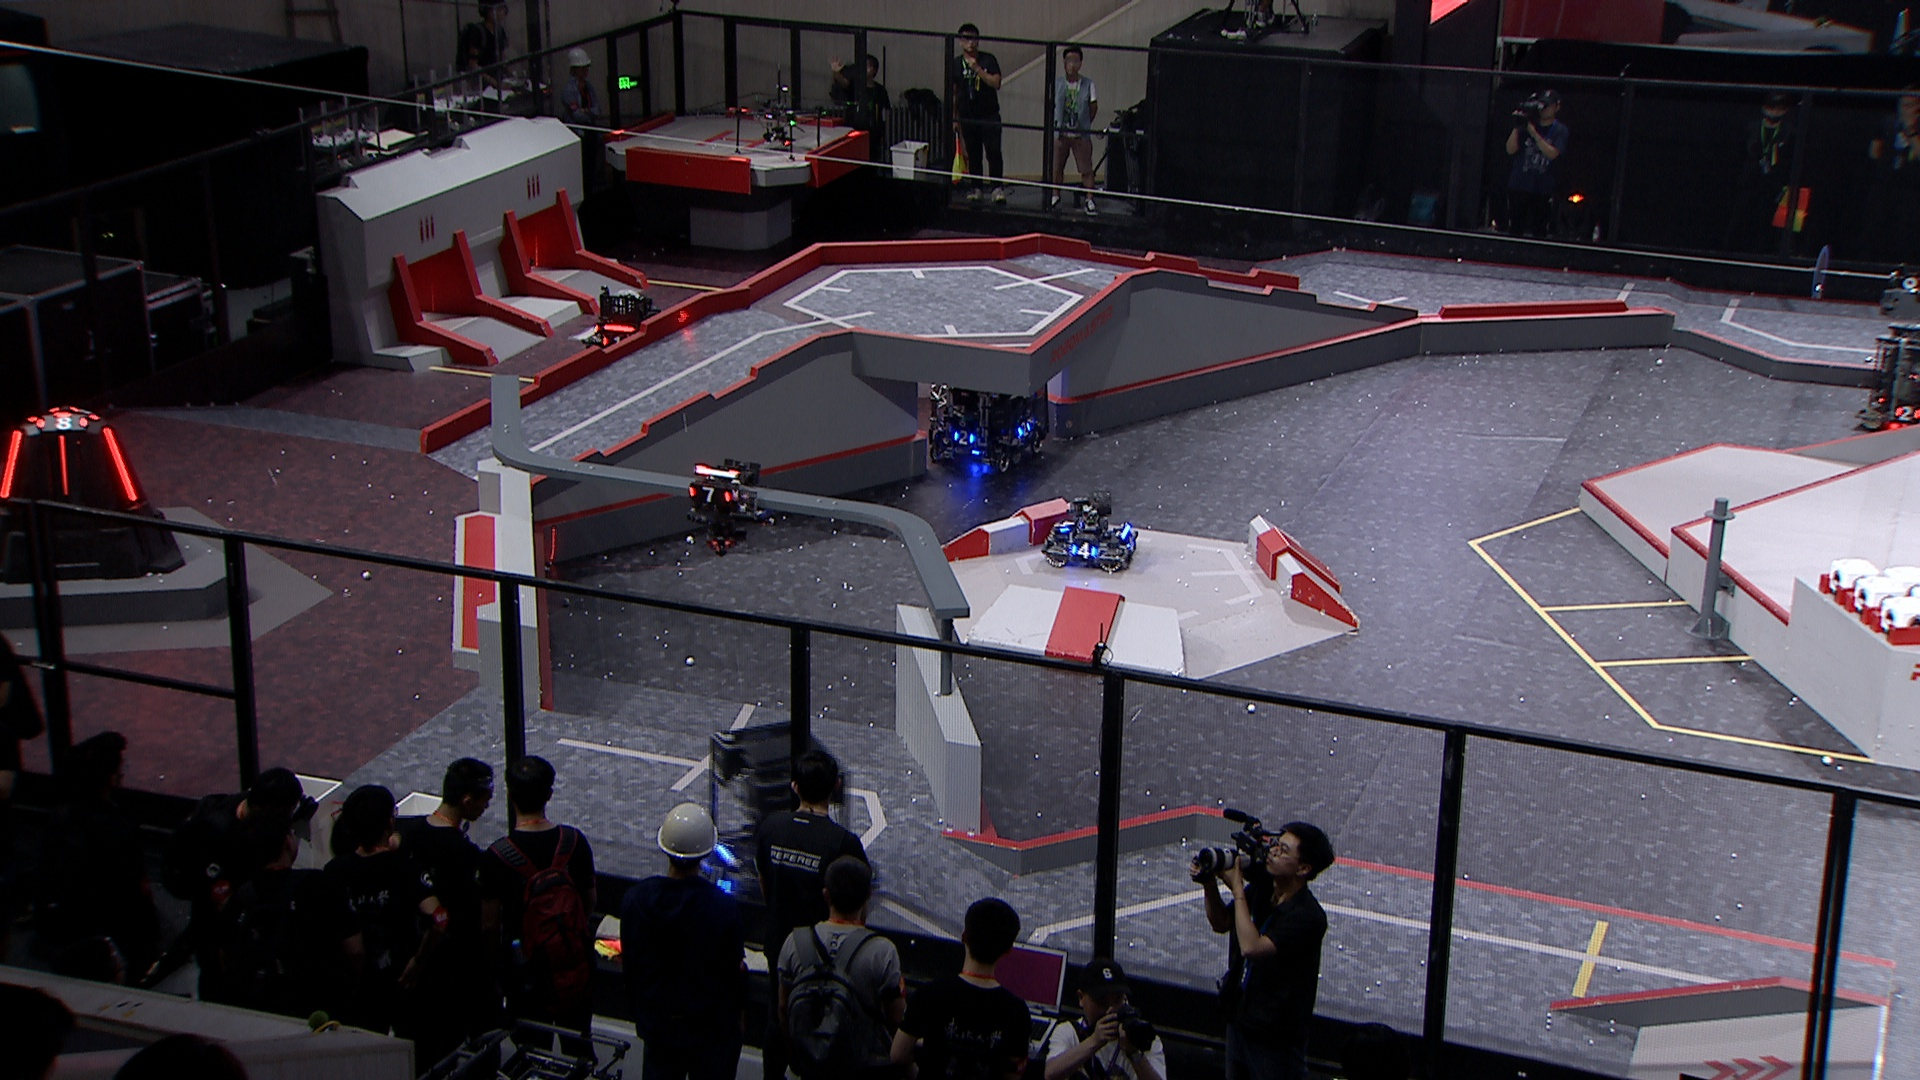armor: (100, 425, 136, 502), (698, 862, 731, 895), (40, 413, 84, 433), (57, 433, 69, 498), (690, 485, 728, 501), (1894, 405, 1920, 423), (1068, 542, 1097, 556), (949, 429, 975, 444), (603, 334, 622, 351), (1015, 418, 1033, 436), (1058, 513, 1073, 531), (1126, 534, 1139, 549)
car: (676, 717, 862, 913), (920, 348, 1055, 476), (1040, 487, 1141, 578), (1854, 319, 1920, 434), (580, 284, 669, 367)
watcher: (680, 455, 769, 556)
